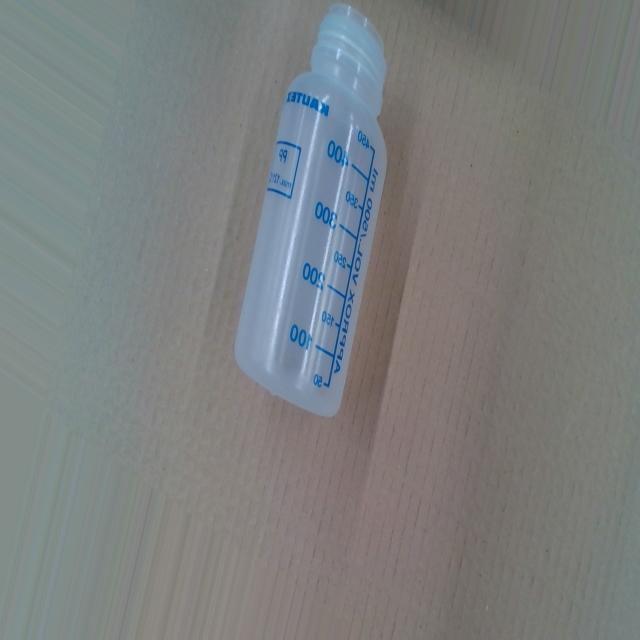bottle: (232, 2, 390, 420)
